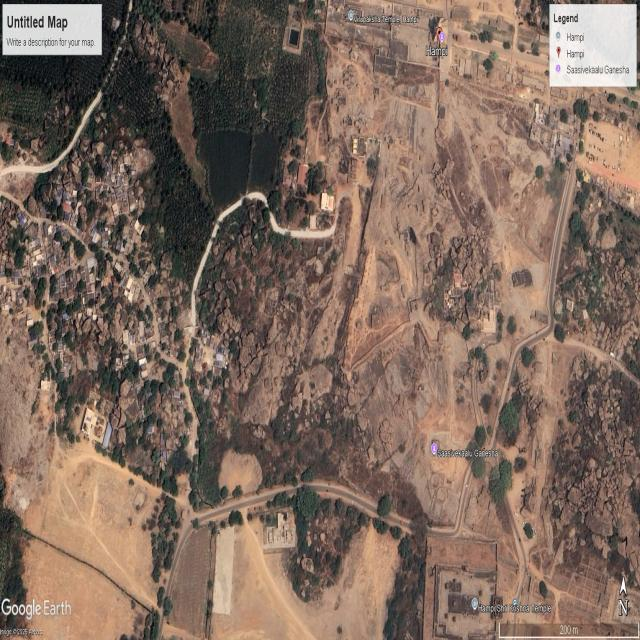artifacts: (3, 149, 160, 400), (423, 519, 640, 639), (523, 94, 639, 217), (433, 560, 496, 640), (92, 154, 141, 240), (442, 265, 498, 336), (528, 104, 575, 169), (264, 509, 295, 551), (352, 134, 380, 162)
ruins: (7, 444, 177, 637), (325, 6, 427, 295), (196, 215, 286, 372), (356, 338, 422, 465), (448, 2, 531, 88), (335, 0, 429, 75), (439, 120, 491, 223), (133, 11, 188, 104), (282, 4, 305, 56)
vegetation: (91, 12, 214, 281), (307, 423, 424, 609), (3, 4, 130, 160), (545, 361, 638, 569), (186, 3, 311, 143), (524, 8, 640, 111), (558, 200, 640, 343), (2, 73, 72, 152)
